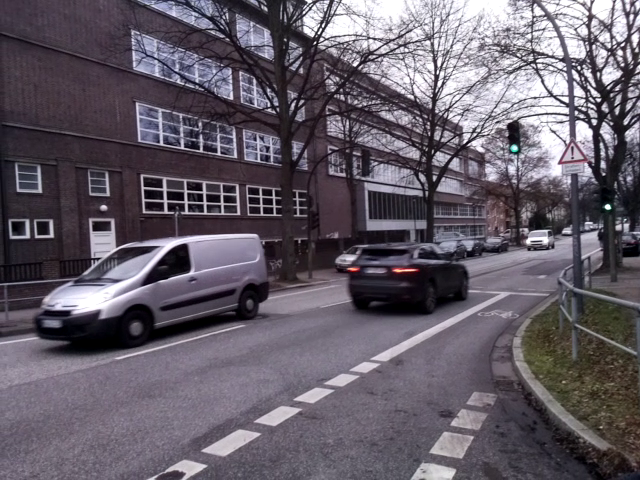car: (42, 232, 279, 344), (352, 241, 474, 318)
